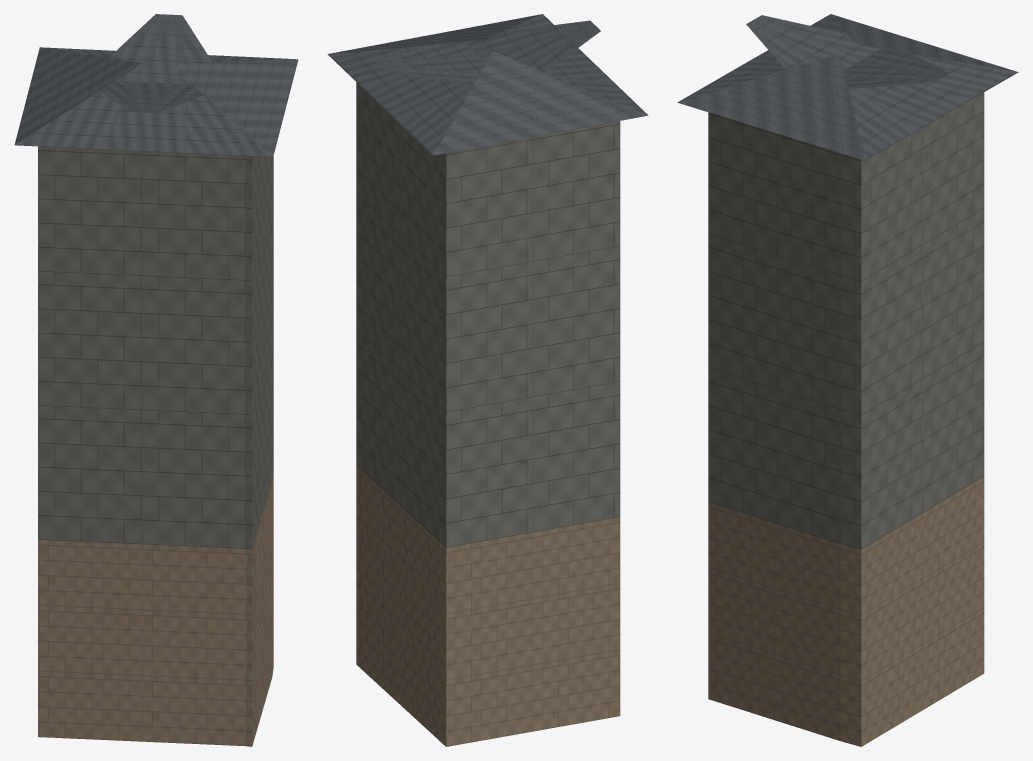
File: bld_c-3_-1_546.gltf
The picture shows the model from 3 angles, left to right: view 1: azimuth 30°, elevation 25°; view 2: azimuth 150°, elevation 25°; view 3: azimuth 270°, elevation 25°; orthographic projection.
Visible parts, largest first — view 1: bld_c-3_-1_546; view 2: bld_c-3_-1_546; view 3: bld_c-3_-1_546.
Part boxes in pixels (x1,y1,x2,y2): bld_c-3_-1_546: [14, 14, 298, 746]; bld_c-3_-1_546: [327, 14, 648, 746]; bld_c-3_-1_546: [677, 14, 1018, 746].
Bounding box in the file's own units: 8.15 × 16.5 × 8.01.
3 materials, 3 textured.
